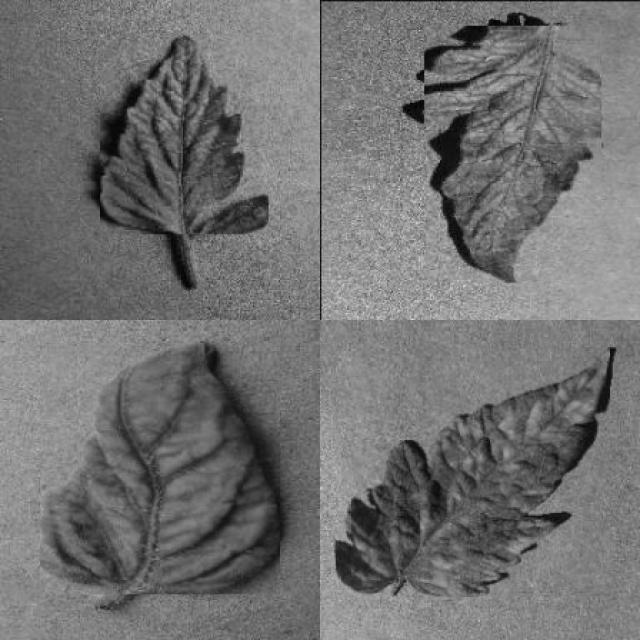Leaf Mold: (336, 349, 610, 597)
Mosaic Virus: (425, 27, 602, 284), (100, 35, 268, 234)
Yellow Leaf Curl Virus: (40, 342, 280, 594)
